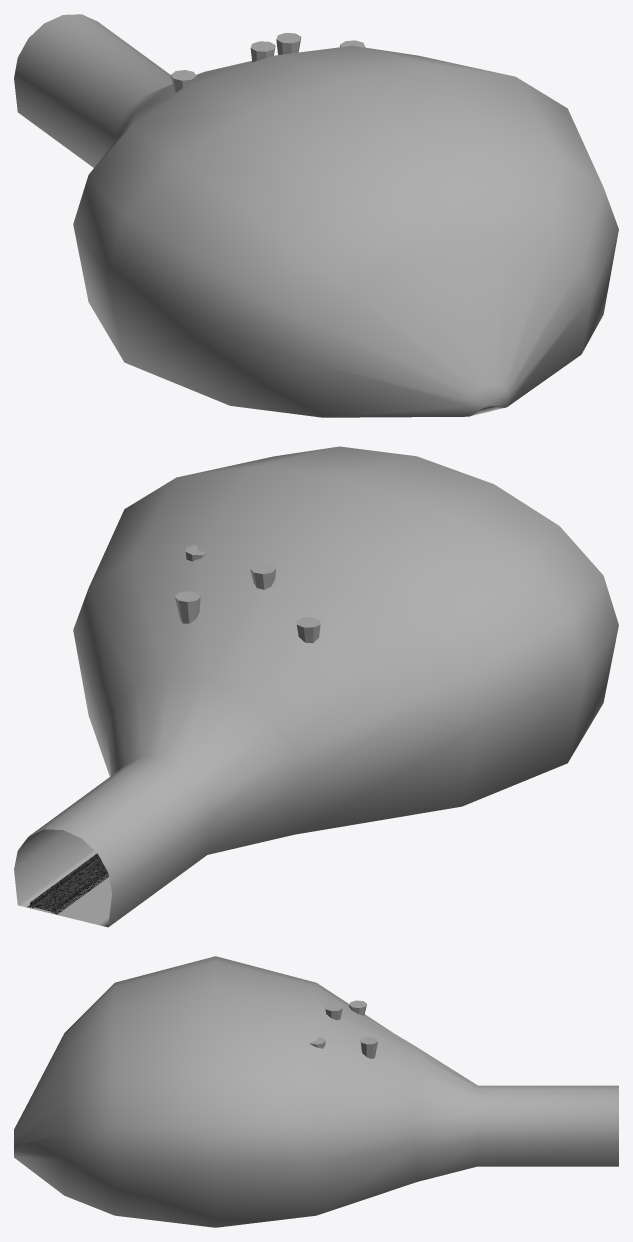
The model's file is Starting Tile.fbx.
3 views of the same model, one above another, from view 1: azimuth 30°, elevation 25°; view 2: azimuth 150°, elevation 25°; view 3: azimuth 270°, elevation 25° (orthographic). The views are drawn at different scales.
Visible parts, largest first — view 1: Stating_Tile; view 2: Stating_Tile, Starting_Tile_Track, pCone9; view 3: Stating_Tile.
Part boxes in pixels (left/top/right/bottom): Stating_Tile: left=14, top=14, right=618, bottom=417; Stating_Tile: left=14, top=446, right=618, bottom=927; Starting_Tile_Track: left=27, top=853, right=108, bottom=914; pCone9: left=175, top=591, right=200, bottom=623; Stating_Tile: left=14, top=956, right=618, bottom=1227.
Size of the model in its own units: 9.79 by 4.54 by 15.
